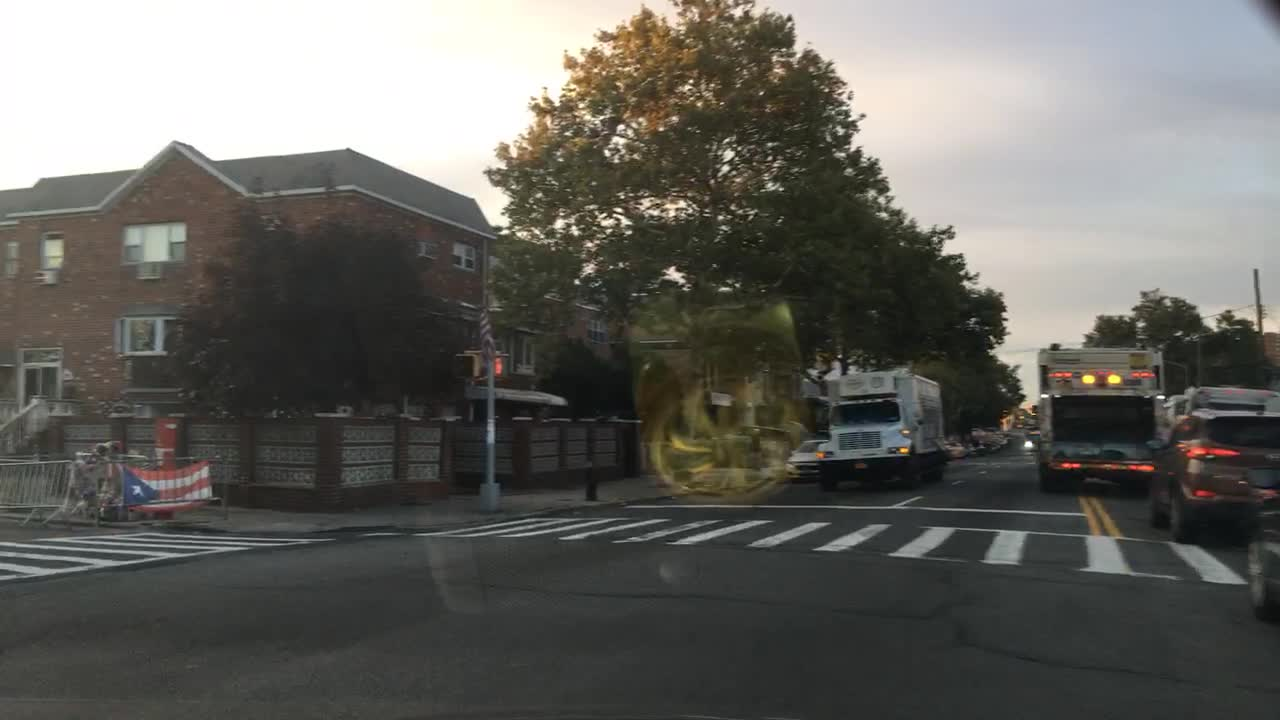car: (1149, 411, 1278, 541), (1160, 387, 1276, 456), (1245, 502, 1278, 624), (782, 438, 829, 484), (944, 437, 965, 459), (1026, 425, 1039, 447), (983, 438, 1001, 453), (961, 440, 977, 455), (973, 437, 986, 455), (995, 434, 1011, 445), (1028, 417, 1039, 433), (1010, 420, 1025, 429), (1015, 410, 1026, 420)
traffic light: (454, 354, 479, 379), (492, 356, 512, 378)
truck: (1034, 343, 1160, 492), (819, 370, 949, 488)
